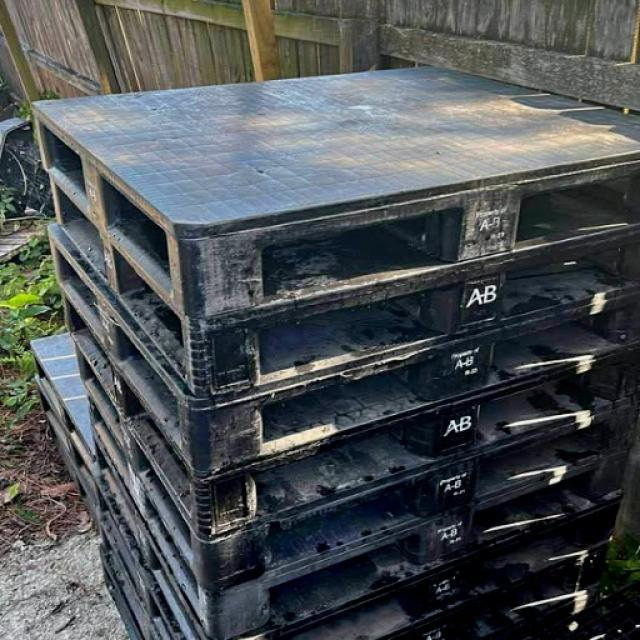non-igps: (26, 50, 640, 325), (39, 159, 640, 408), (63, 322, 640, 548), (75, 378, 640, 601), (50, 276, 640, 488), (81, 418, 634, 640), (88, 466, 632, 640), (87, 499, 621, 640), (89, 537, 626, 640), (23, 322, 108, 485), (27, 371, 108, 514), (39, 413, 105, 532)
